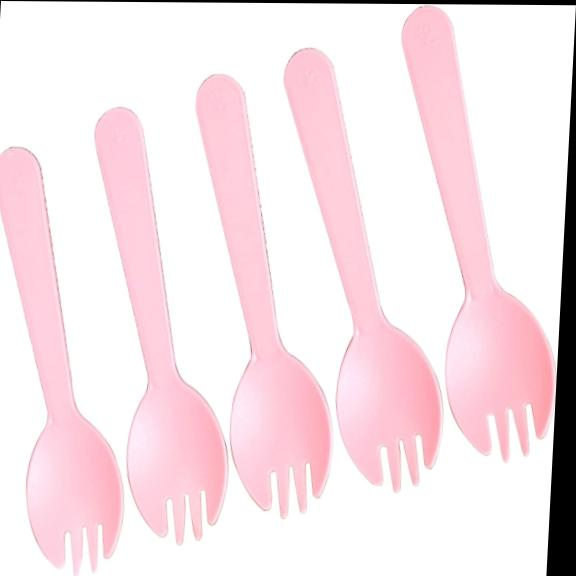Plastik: (284, 48, 442, 490), (402, 6, 555, 459), (196, 75, 331, 516), (94, 108, 227, 543), (0, 148, 122, 574)
